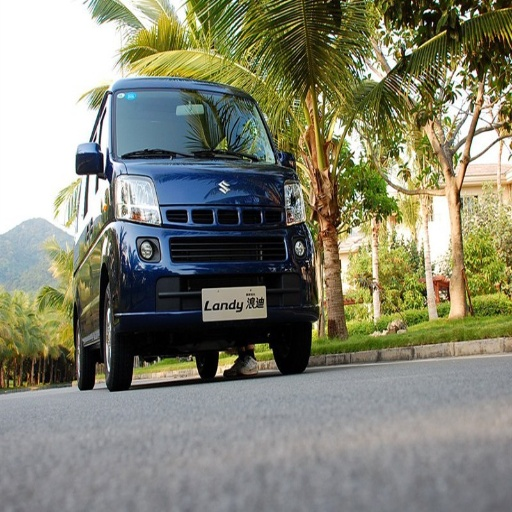front_bumper: (108, 175, 320, 352)
front_right_light: (115, 178, 159, 224)
